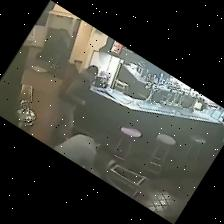person: (49, 65, 97, 146)
